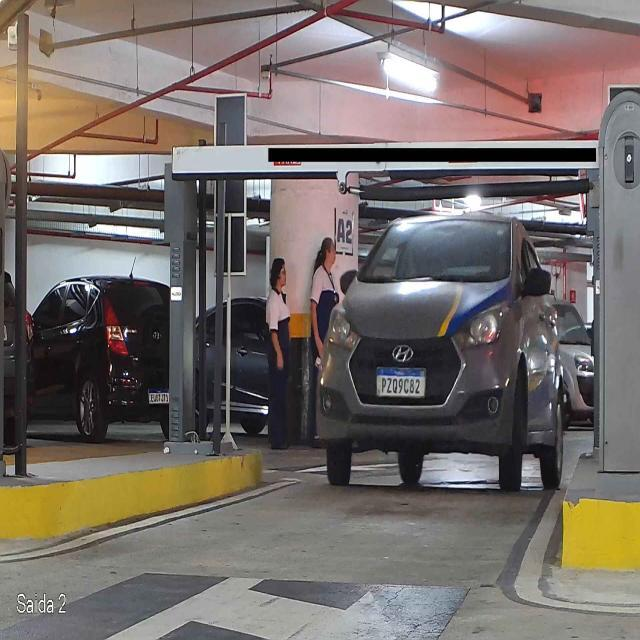mercosul_plate: (374, 364, 428, 398)
